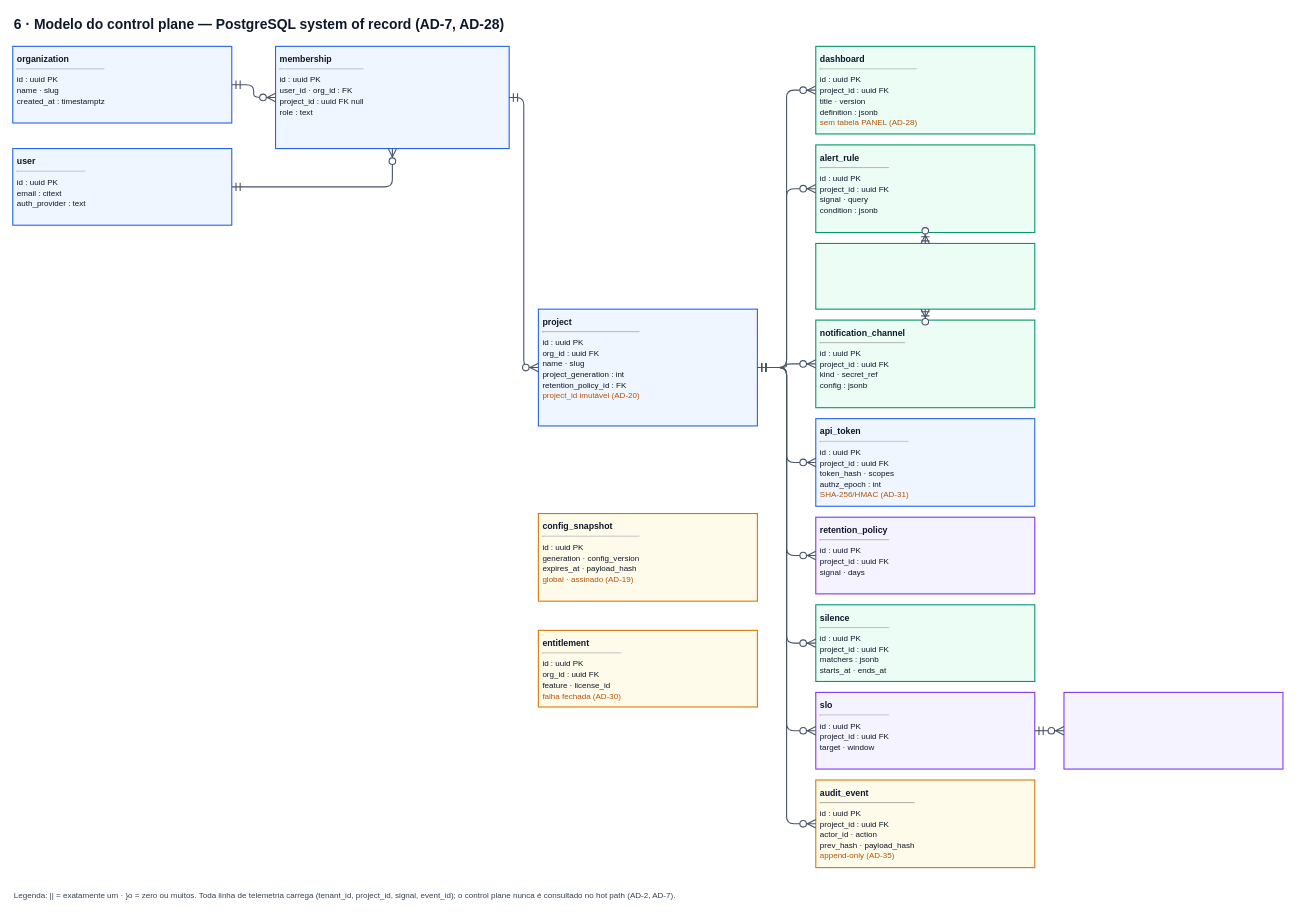
Image size: 1310x920. Some labels were removed from this diagram. Each missing label, with the centre of its shape:
alert_rule_channel rule_id : uuid PK FK channel_id : uuid PK FK: point 925,276
error_budget id : uuid PK slo_id : uuid FK window · consumed: point 1173,730
